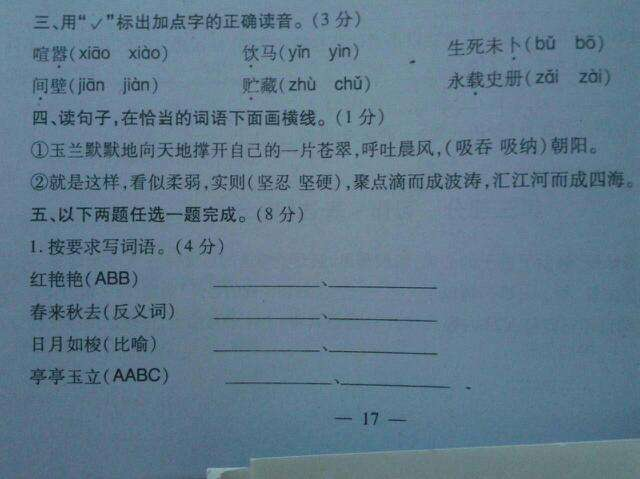text: (29, 70, 615, 95), (29, 36, 609, 61), (31, 169, 636, 190), (26, 366, 473, 393), (28, 136, 597, 156), (32, 334, 438, 359), (27, 270, 441, 292), (28, 302, 438, 324), (31, 107, 386, 128), (28, 11, 368, 31), (29, 205, 304, 222), (30, 237, 232, 259), (332, 410, 411, 427)
